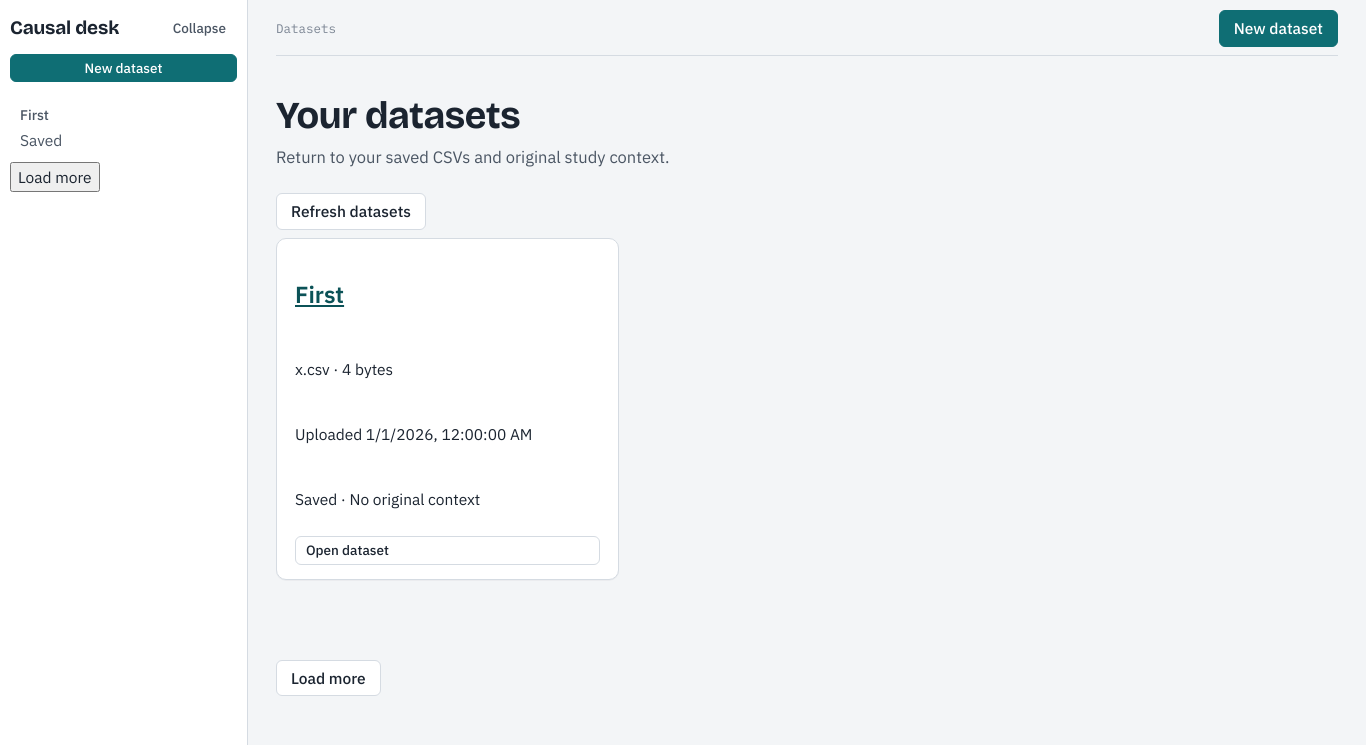
it: shares loaded items and preserves them when the next page fails
Expected: the link "First" is shown, [295,279,344,309]
Click the button "Load more" below "Open dataset" at (328, 678), box [276,660,381,696]
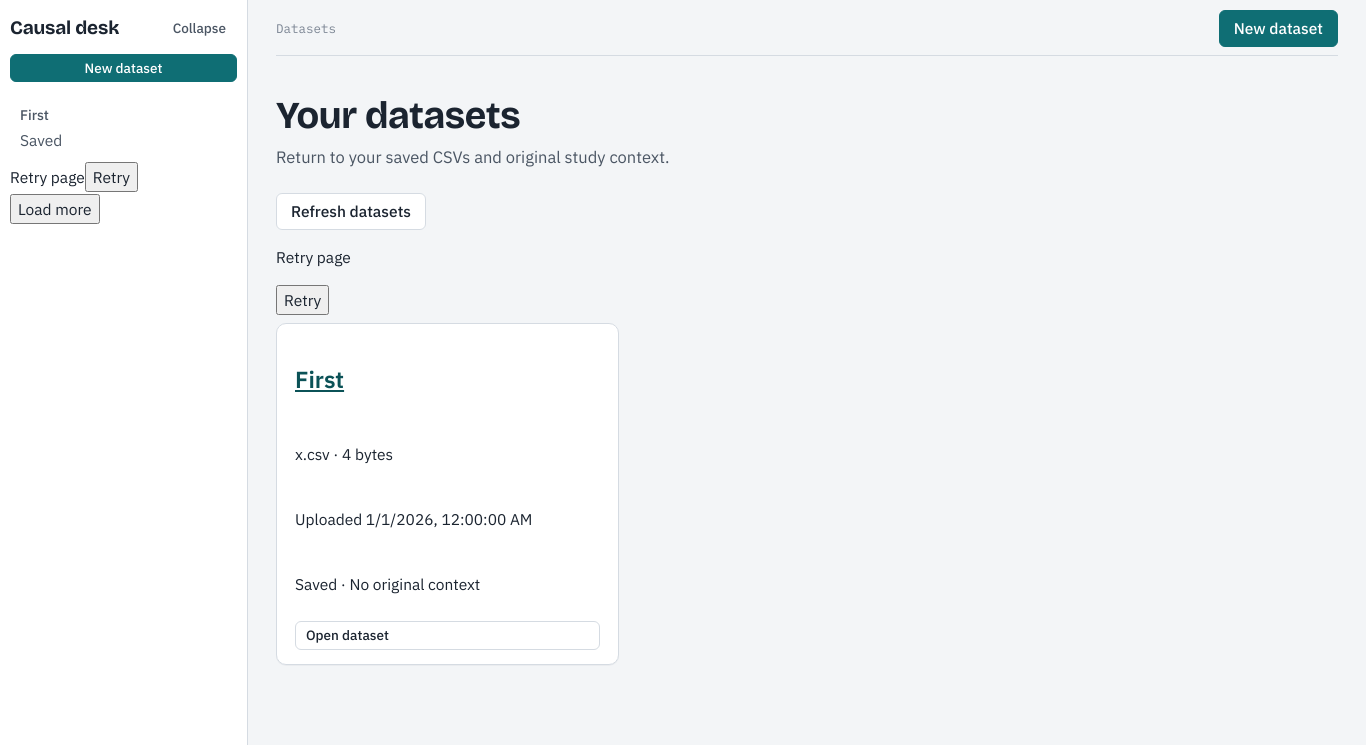
Expected: the link "First" is shown, [295,364,344,394]
Now the text "Retry page" is shown, box [276,247,351,267]
Click the button "Retry" below "Your datasets" at (303, 300), box [276,285,329,315]
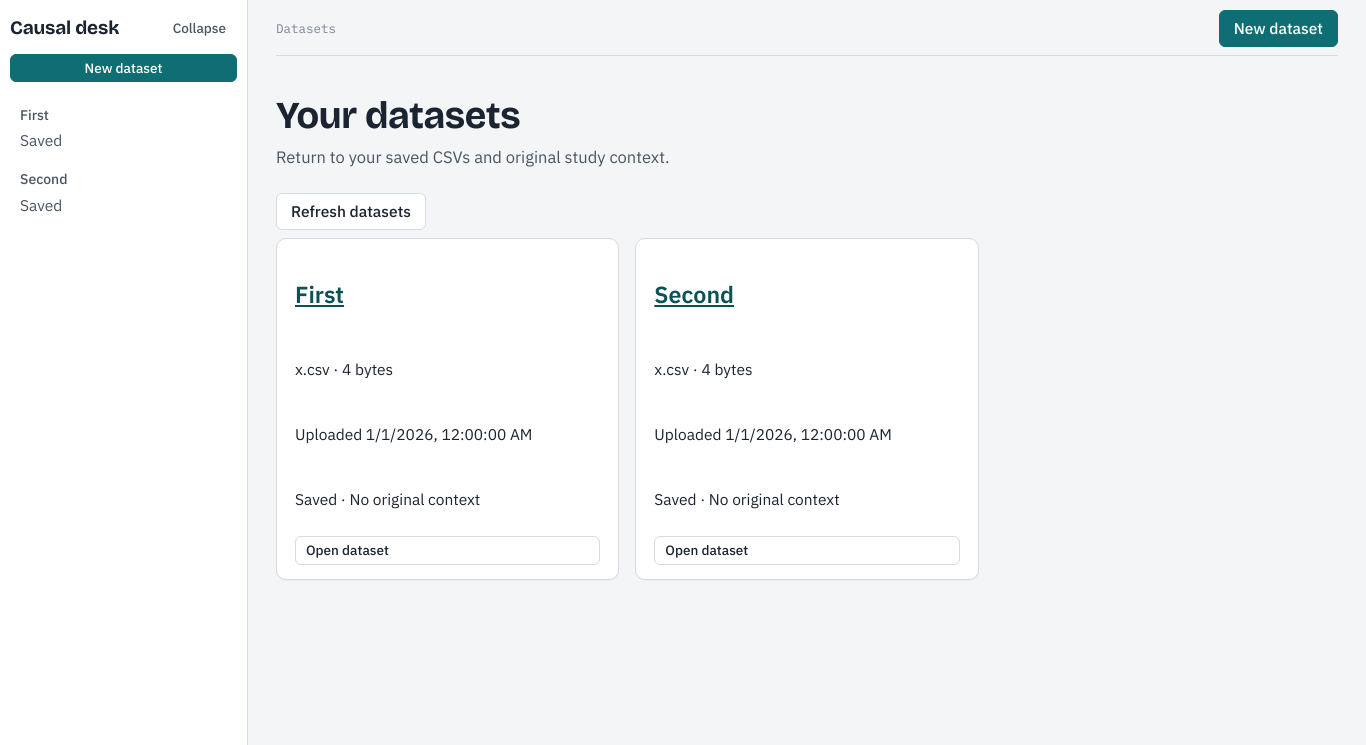
Now the link "Second" is shown, box [654,279,734,309]
Now the text "Second" is shown, box [20,170,68,188]
